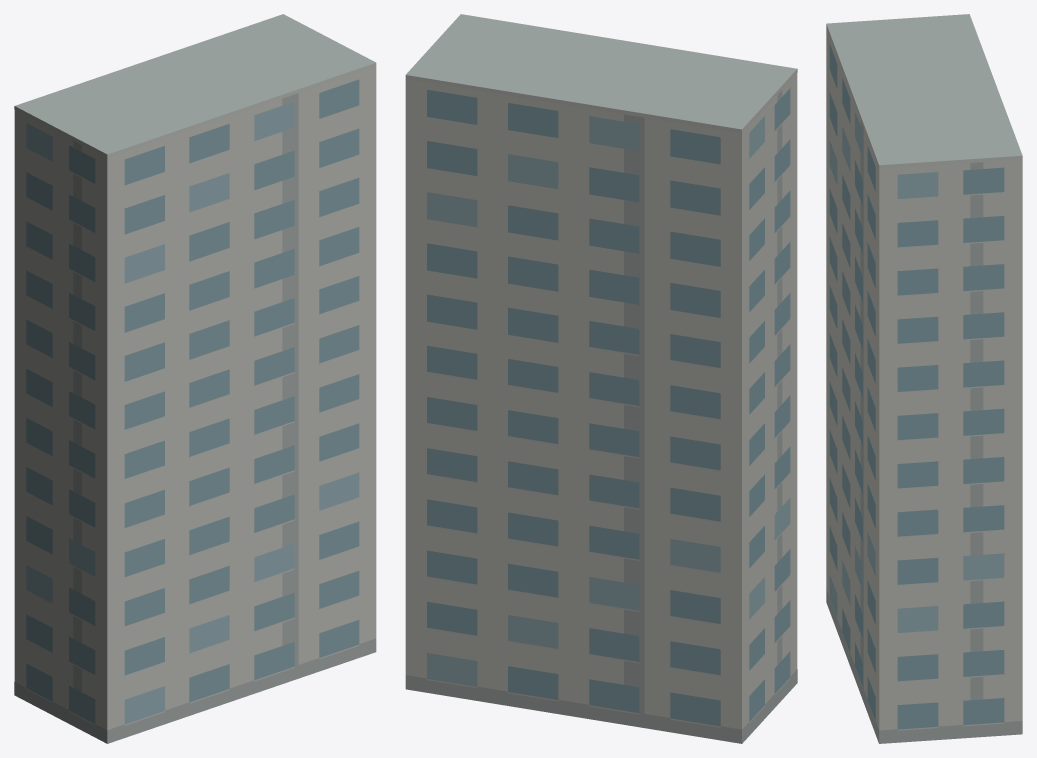
File: residential-08baf639-5156-4da6-b3c6-0a2439fe239c.glb
The picture shows the model from 3 angles, left to right: view 1: azimuth 30°, elevation 25°; view 2: azimuth 150°, elevation 25°; view 3: azimuth 270°, elevation 25°; orthographic projection. The views are drawn at different scales.
Visible parts, largest first — view 1: residential-08baf639-5156-4da6-b3c6-0a2439fe239c.tmp; view 2: residential-08baf639-5156-4da6-b3c6-0a2439fe239c.tmp; view 3: residential-08baf639-5156-4da6-b3c6-0a2439fe239c.tmp.
Part boxes in pixels (box(x1,y1,x2,y2)): residential-08baf639-5156-4da6-b3c6-0a2439fe239c.tmp: box(14, 14, 376, 743); residential-08baf639-5156-4da6-b3c6-0a2439fe239c.tmp: box(405, 14, 797, 743); residential-08baf639-5156-4da6-b3c6-0a2439fe239c.tmp: box(826, 14, 1022, 743).
Size of the model in its own units: 20.76 by 37 by 11.39.
